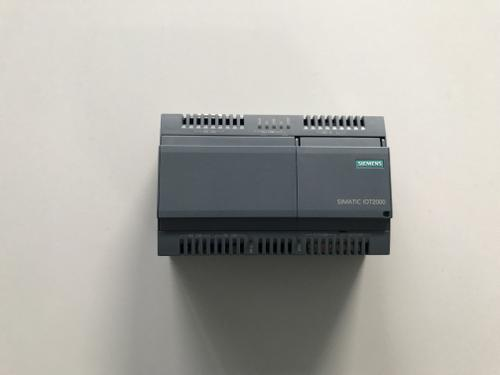device: (157, 114, 394, 256)
